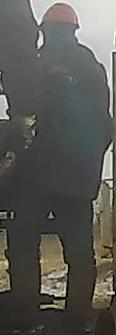helmet: (36, 1, 81, 30)
vest: (26, 46, 110, 202)
